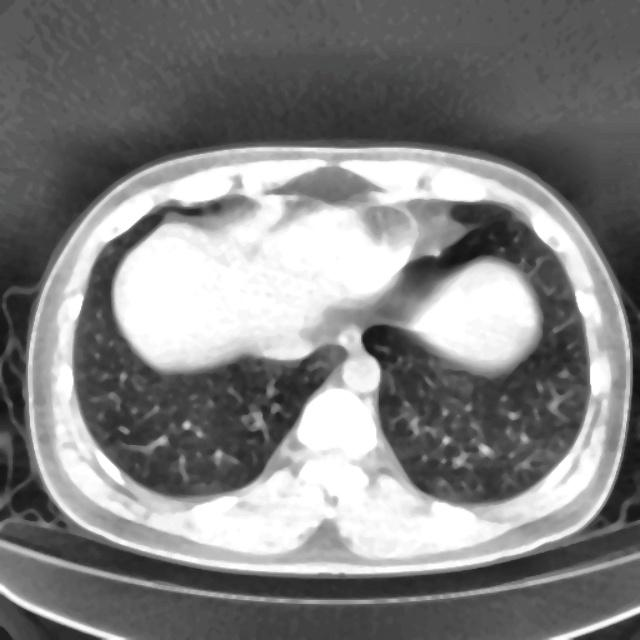covid: (25, 142, 634, 572)
